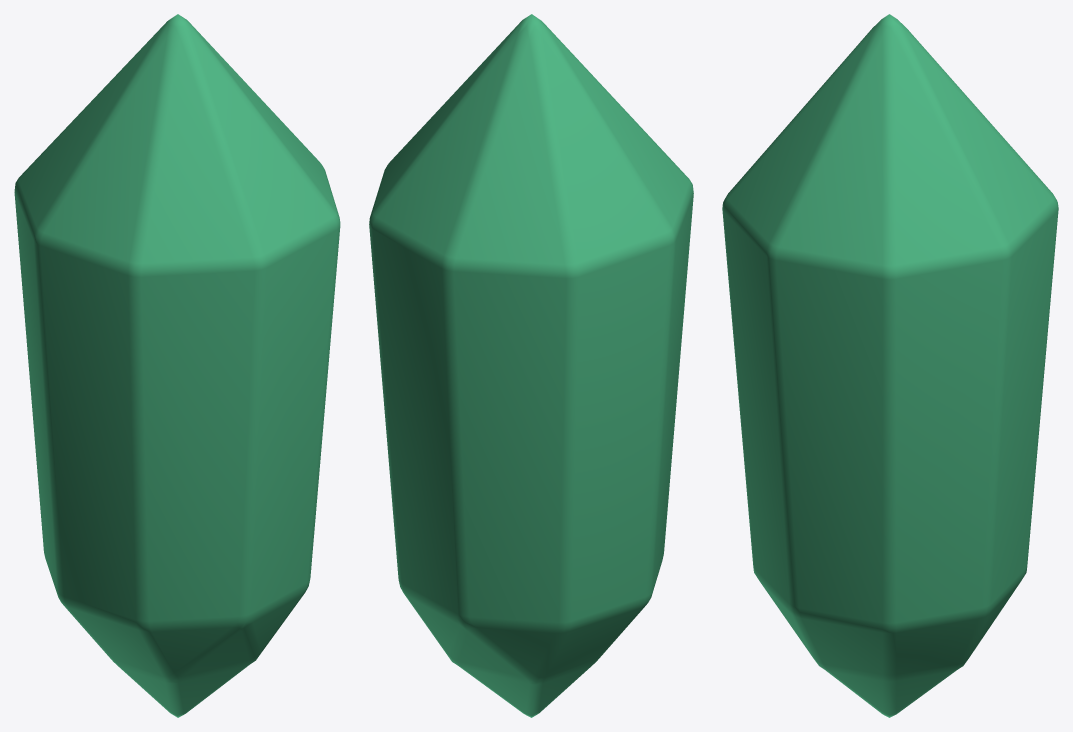
The model's file is ai_gemstone_002.FBX.
3 views of the same model, side by side, from view 1: azimuth 30°, elevation 25°; view 2: azimuth 150°, elevation 25°; view 3: azimuth 270°, elevation 25° (orthographic).
Visible parts, largest first — view 1: it_skill_gemstone_002; view 2: it_skill_gemstone_002; view 3: it_skill_gemstone_002.
Part boxes in pixels (x1,y1,x2,y2): it_skill_gemstone_002: [14, 14, 340, 717]; it_skill_gemstone_002: [369, 14, 693, 717]; it_skill_gemstone_002: [722, 14, 1058, 717].
Size of the model in its own units: 179 by 419 by 182.
